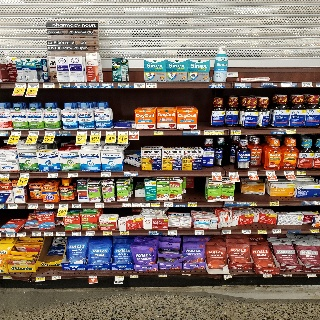All PRICE TAGS: (281, 82, 297, 87), (302, 82, 313, 87), (235, 83, 246, 88), (43, 83, 54, 88), (124, 172, 137, 176), (261, 83, 274, 87), (211, 83, 224, 87), (51, 275, 61, 280), (148, 230, 158, 235), (229, 171, 239, 176), (266, 171, 276, 176), (297, 170, 307, 175), (118, 131, 128, 136), (231, 130, 241, 135), (134, 83, 144, 88), (147, 83, 157, 88), (204, 130, 214, 135), (214, 130, 224, 135), (19, 173, 29, 178), (101, 172, 111, 177), (59, 83, 71, 87), (195, 230, 204, 235), (168, 230, 177, 235), (72, 231, 81, 236), (188, 202, 197, 207), (164, 202, 173, 207), (95, 203, 104, 208), (72, 203, 81, 208), (59, 203, 68, 208), (287, 129, 296, 134), (248, 171, 257, 176), (258, 229, 267, 234), (242, 229, 251, 234), (17, 232, 26, 237), (8, 204, 17, 209), (191, 130, 200, 135), (15, 84, 26, 88), (28, 83, 39, 87), (75, 83, 86, 87), (102, 83, 113, 87), (118, 83, 129, 87), (28, 131, 39, 135), (59, 131, 70, 135), (153, 131, 164, 135), (115, 275, 123, 280), (35, 277, 45, 281), (86, 231, 94, 236), (284, 171, 294, 175), (247, 202, 257, 206), (91, 131, 101, 135), (11, 131, 21, 135), (45, 131, 55, 135), (77, 131, 87, 135), (106, 131, 116, 135), (129, 131, 139, 135), (48, 173, 58, 177), (68, 173, 78, 177), (56, 232, 65, 236), (44, 232, 53, 236), (32, 232, 41, 236), (45, 204, 54, 208), (212, 171, 221, 175), (270, 202, 279, 206), (310, 229, 319, 233), (272, 229, 281, 233), (120, 231, 129, 235), (6, 233, 15, 237), (0, 174, 9, 178), (88, 83, 100, 86), (1, 131, 8, 136), (103, 231, 111, 235), (151, 203, 159, 207), (142, 203, 150, 207), (132, 203, 140, 207), (123, 203, 131, 207), (29, 204, 37, 208), (223, 230, 231, 234), (307, 274, 316, 277), (263, 274, 272, 277), (3, 276, 11, 279), (130, 275, 138, 278), (224, 275, 232, 278), (159, 274, 166, 277), (236, 202, 246, 204), (315, 201, 320, 205), (88, 276, 97, 278), (283, 274, 291, 276)
